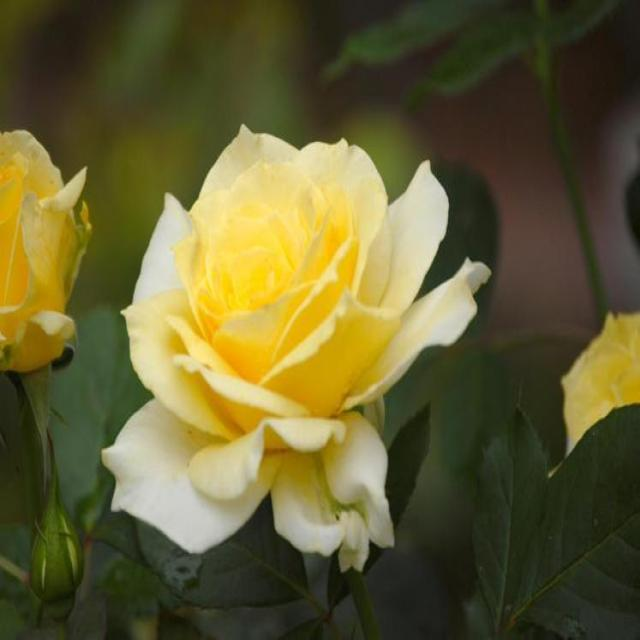rose: (107, 100, 499, 630)
